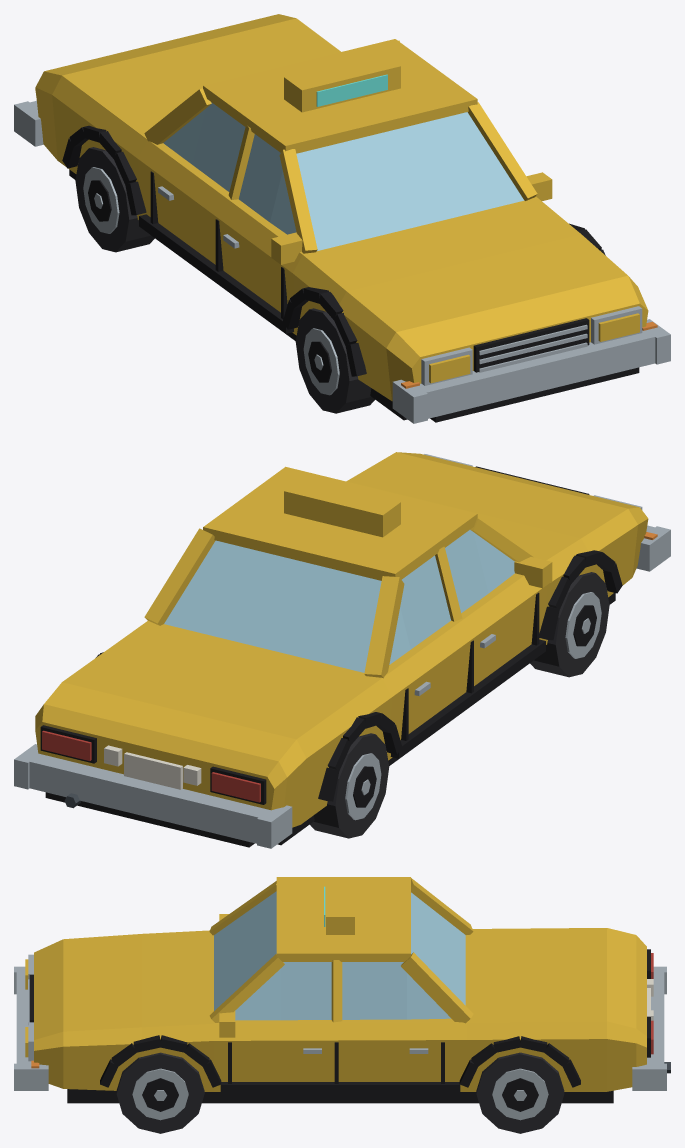
Rendered from GV_Taxi_Yellow_01.glb.
3 views of the same model, one above another, from view 1: azimuth 30°, elevation 25°; view 2: azimuth 150°, elevation 25°; view 3: azimuth 270°, elevation 25° (orthographic). The views are drawn at different scales.
Visible parts, largest first — view 1: GV_Taxi_Yellow_01; view 2: GV_Taxi_Yellow_01; view 3: GV_Taxi_Yellow_01.
Part boxes in pixels (box(x1,y1,x2,y2)): GV_Taxi_Yellow_01: box(14, 14, 670, 423); GV_Taxi_Yellow_01: box(14, 452, 670, 848); GV_Taxi_Yellow_01: box(14, 877, 670, 1133).
Bounding box in the file's own units: 1.92 × 1.53 × 4.93.
Materials: 1 (1 with a texture image).
